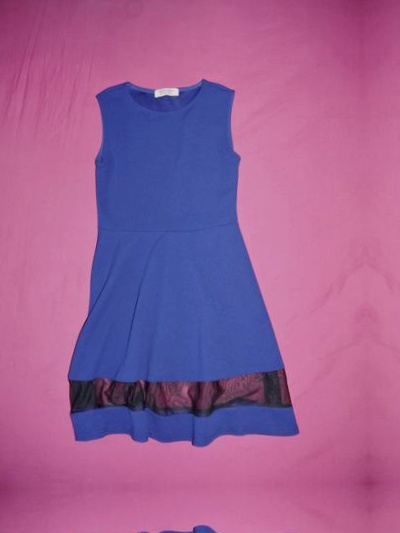Dress: (54, 53, 328, 458), (62, 515, 336, 533)
